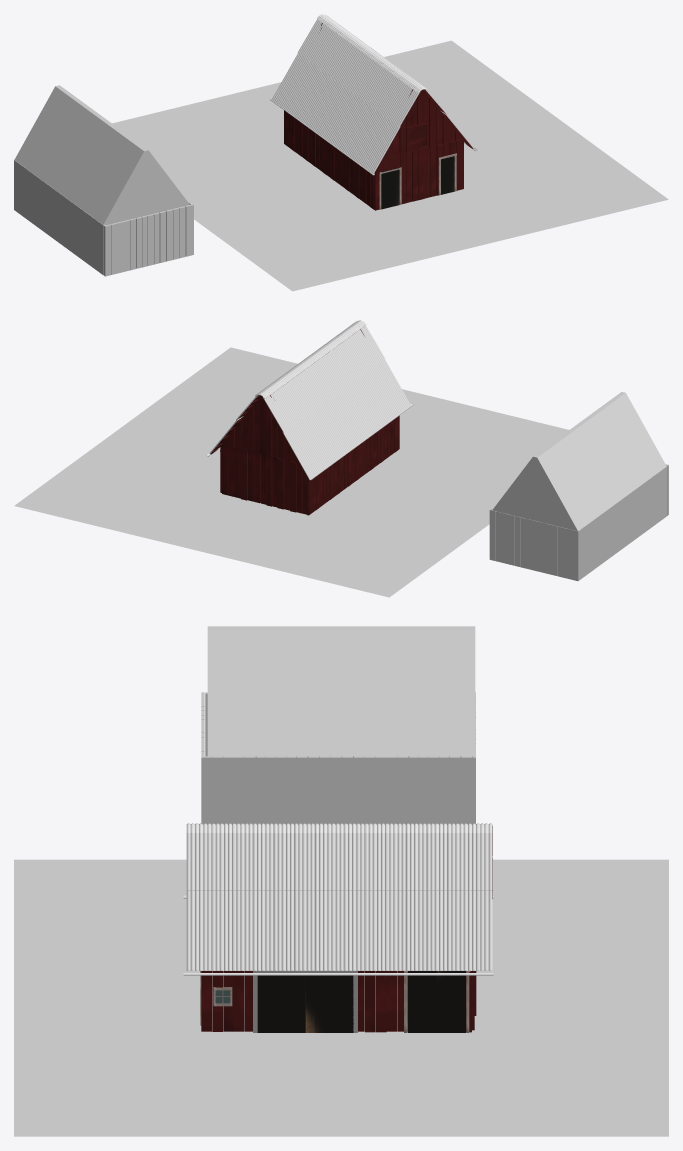
Rendered from HouseYes.fbx.
3 renders of one model, top to bottom at view 1: azimuth 30°, elevation 25°; view 2: azimuth 150°, elevation 25°; view 3: azimuth 270°, elevation 25°, orthographic. The views are drawn at different scales.
Parts seen in each view (by area): view 1: Plane, Cube.159, Cube.177, Cube.178, Cube.080, Cube.176, Cube.202, Cube.194; view 2: Plane, Cube.159, Cube.177, Cube.178, Cube.080, Cube.176; view 3: Plane, Cube.159, Cube.174, Cube.175, Cube.176, Cube.195, Cube.196, Cube.080, Cube.197, Cube.198, Cube.204, Cube.110 (+20 smaller).
Boxes of the visible parts, <box> form: Plane: <box>112,40,668,291</box>; Cube.159: <box>14,85,188,224</box>; Cube.177: <box>272,53,400,173</box>; Cube.178: <box>297,19,420,127</box>; Cube.080: <box>14,160,189,274</box>; Cube.176: <box>317,14,428,92</box>; Cube.202: <box>381,167,399,209</box>; Cube.194: <box>441,156,454,194</box>; Plane: <box>14,347,568,597</box>; Cube.159: <box>492,392,666,530</box>; Cube.177: <box>282,359,410,479</box>; Cube.178: <box>262,325,385,432</box>; Cube.080: <box>521,467,666,580</box>; Cube.176: <box>255,320,366,398</box>; Plane: <box>14,859,668,1136</box>; Cube.159: <box>207,626,475,755</box>; Cube.174: <box>186,891,492,970</box>; Cube.175: <box>186,833,492,890</box>; Cube.176: <box>186,823,492,832</box>; Cube.195: <box>257,975,305,1032</box>; Cube.196: <box>305,975,353,1032</box>; Cube.080: <box>208,756,472,823</box>; Cube.197: <box>408,971,436,1032</box>; Cube.198: <box>437,971,465,1032</box>; Cube.204: <box>183,973,493,975</box>; Cube.110: <box>449,756,460,824</box>.
Bounding box in the file's own units: 26.66 × 5.87 × 20.
